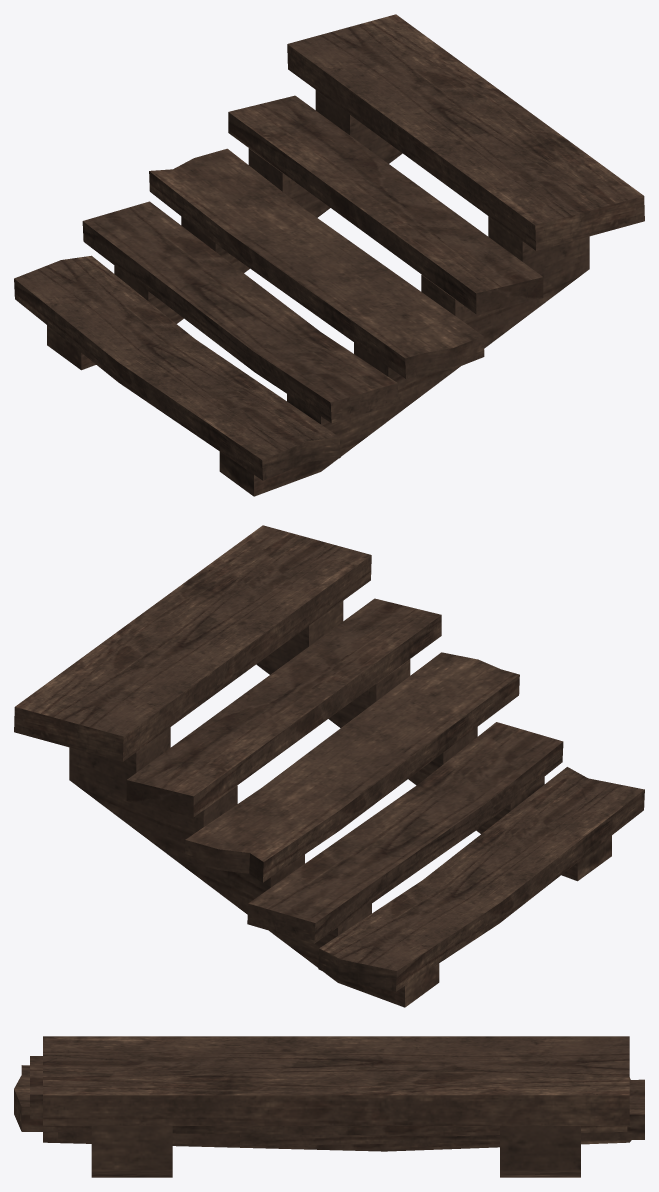
The model's file is Stairs.S.fbx.
3 views of the same model, one above another, from view 1: azimuth 30°, elevation 25°; view 2: azimuth 150°, elevation 25°; view 3: azimuth 270°, elevation 25° (orthographic). The views are drawn at different scales.
Visible parts, largest first — view 1: SM_Env_Stairs1MNarrow_OldWood.001; view 2: SM_Env_Stairs1MNarrow_OldWood.001; view 3: SM_Env_Stairs1MNarrow_OldWood.001.
Part boxes in pixels (left/top/right/bottom): SM_Env_Stairs1MNarrow_OldWood.001: left=14, top=14, right=644, bottom=496; SM_Env_Stairs1MNarrow_OldWood.001: left=14, top=525, right=644, bottom=1007; SM_Env_Stairs1MNarrow_OldWood.001: left=14, top=1036, right=644, bottom=1177.
Bounding box in the file's own units: 1.78 × 2.15 × 1.
